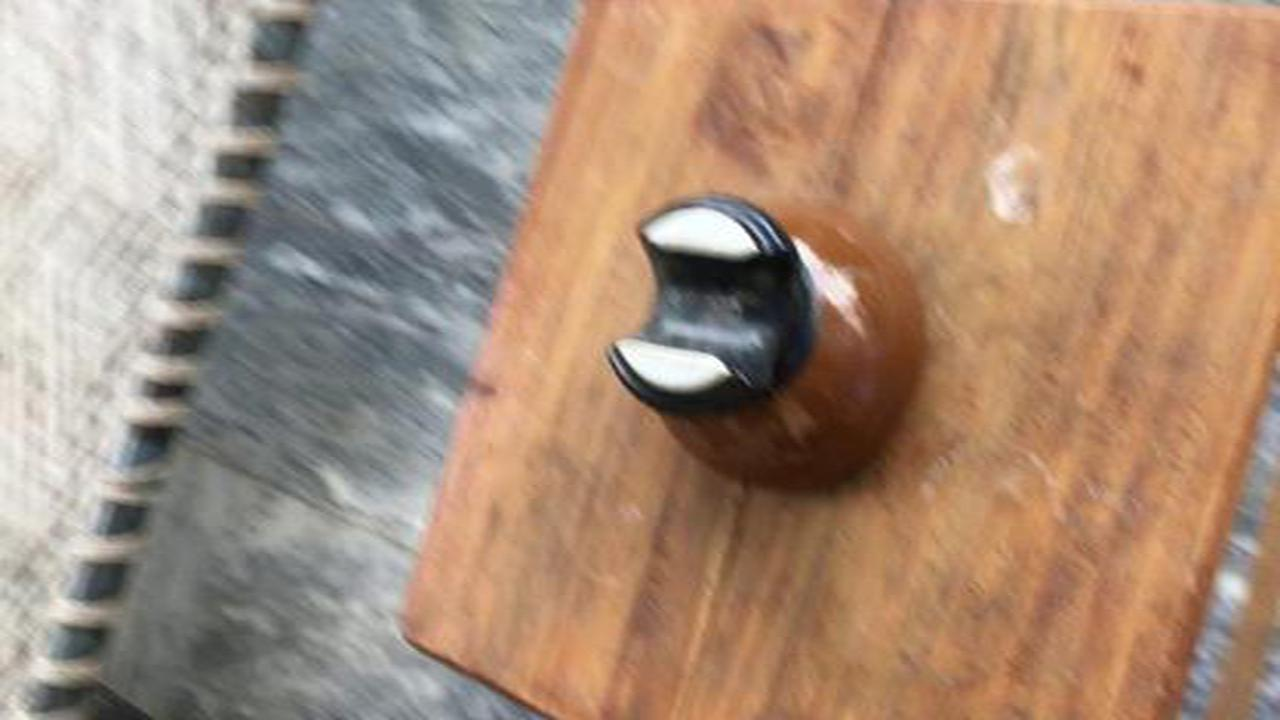insulator_pin: (588, 177, 954, 511)
